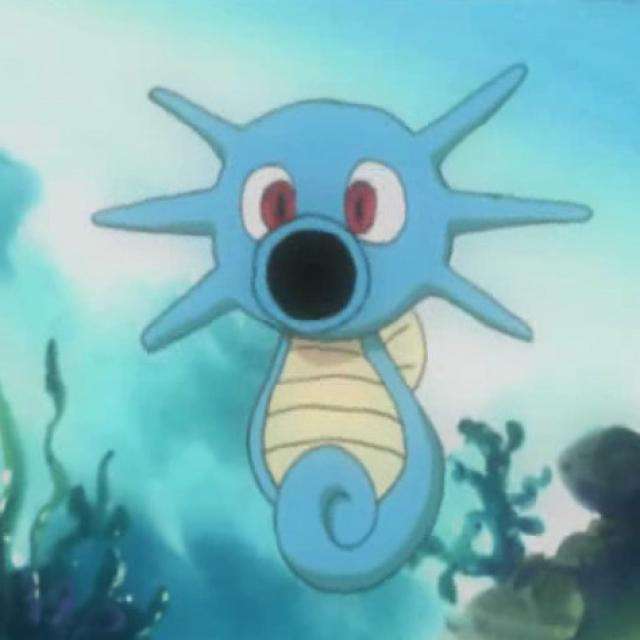Horsea: (144, 90, 540, 595)
